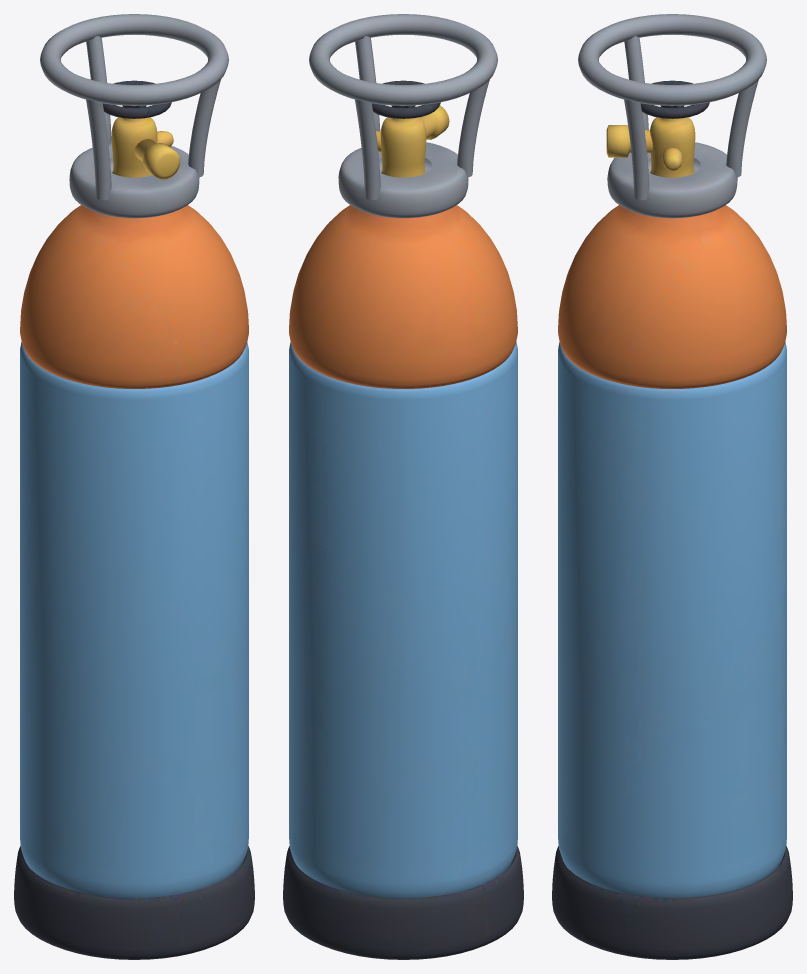
The model's file is gas-cylinder.glb.
The picture shows the model from 3 angles, left to right: view 1: azimuth 30°, elevation 25°; view 2: azimuth 150°, elevation 25°; view 3: azimuth 270°, elevation 25°; orthographic projection.
Visible parts, largest first — view 1: gas-cylinder_body; view 2: gas-cylinder_body; view 3: gas-cylinder_body.
Part boxes in pixels (<box>): gas-cylinder_body: <box>14,14,254,959</box>; gas-cylinder_body: <box>283,14,523,959</box>; gas-cylinder_body: <box>552,14,792,959</box>.
Bounding box in the file's own units: 0.2522 × 0.996 × 0.2522.
1 material, 1 textured.
